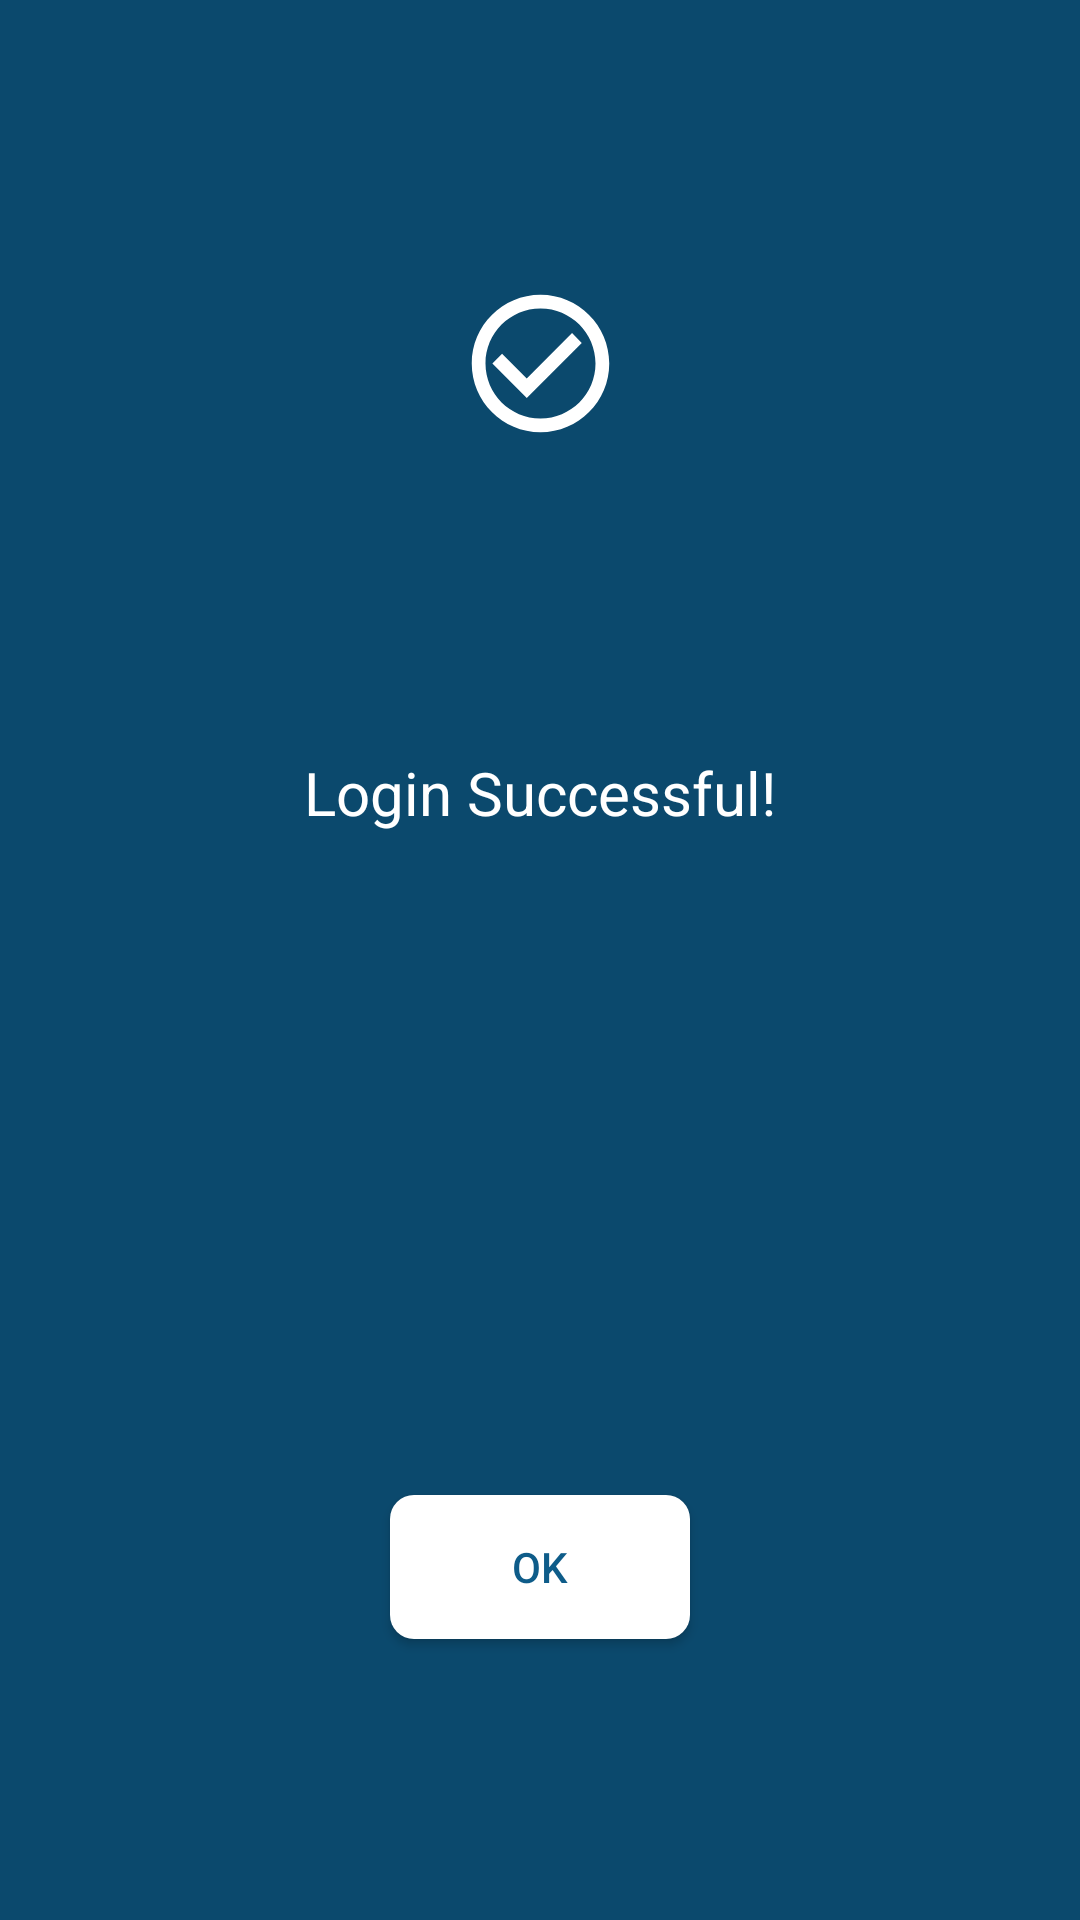

Icons on this 1080×1920 Android screen, each with its box as (x1, y1, x2, y2):
check circle: (471, 294, 610, 433)
